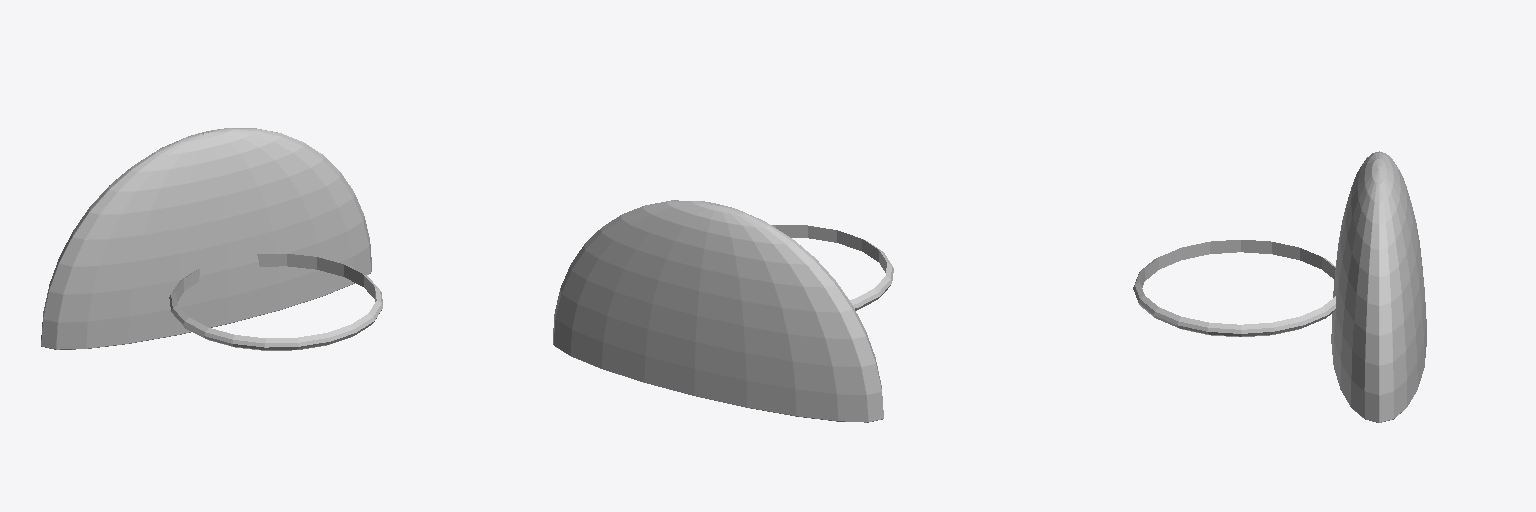
The model's file is aro.obj.
3 views of the same model, side by side, from view 1: azimuth 30°, elevation 25°; view 2: azimuth 150°, elevation 25°; view 3: azimuth 270°, elevation 25° (orthographic).
Visible parts, largest first — view 1: pSphere1, pTorus1; view 2: pSphere1, pTorus1; view 3: pSphere1, pTorus1.
Boxes of the visible parts, x1=… form: pSphere1: x1=41, y1=128, x2=371, y2=349; pTorus1: x1=169, y1=254, x2=382, y2=350; pSphere1: x1=553, y1=200, x2=883, y2=422; pTorus1: x1=772, y1=225, x2=893, y2=310; pSphere1: x1=1331, y1=151, x2=1426, y2=422; pTorus1: x1=1133, y1=240, x2=1335, y2=336.
Size of the model in its own units: 160 by 79.92 by 123.